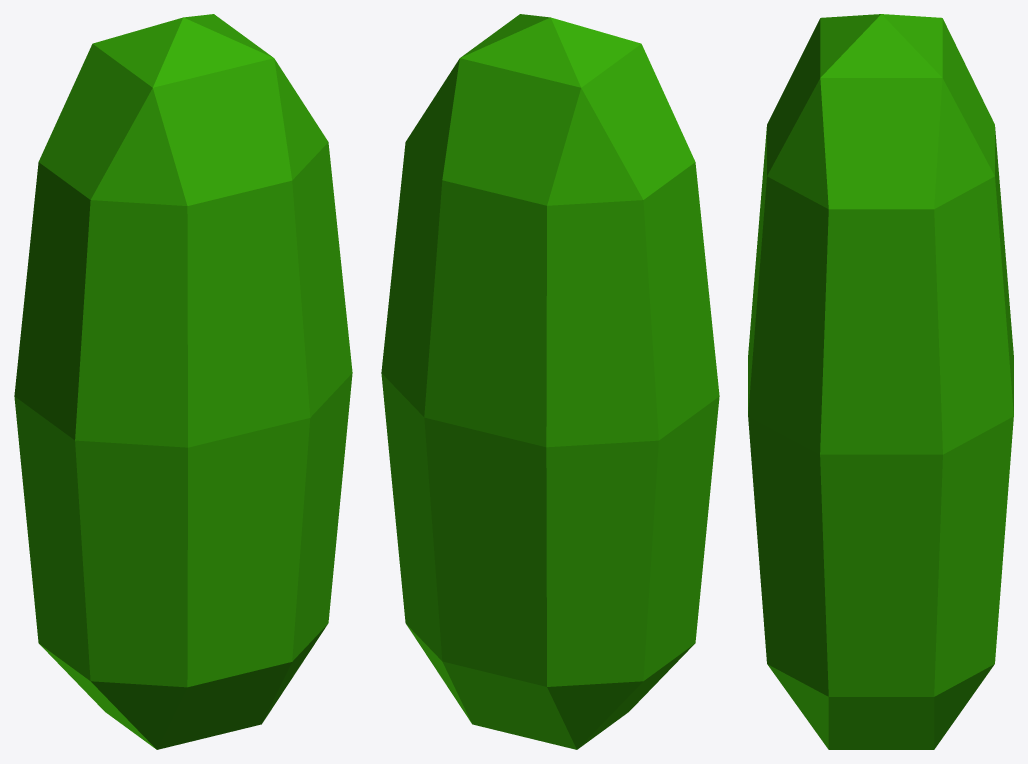
Rendered from trees.fbx.
3 renders of one model, left to right at view 1: azimuth 30°, elevation 25°; view 2: azimuth 150°, elevation 25°; view 3: azimuth 270°, elevation 25°, orthographic.
Visible parts, largest first — view 1: pCube11; view 2: pCube11; view 3: pCube11.
Boxes of the visible parts, x1,y1,x2,y2 form: pCube11: (14, 14, 352, 749); pCube11: (381, 14, 719, 749); pCube11: (748, 14, 1013, 749).
Bounding box in the file's own units: 13.7 × 33.06 × 11.22.
